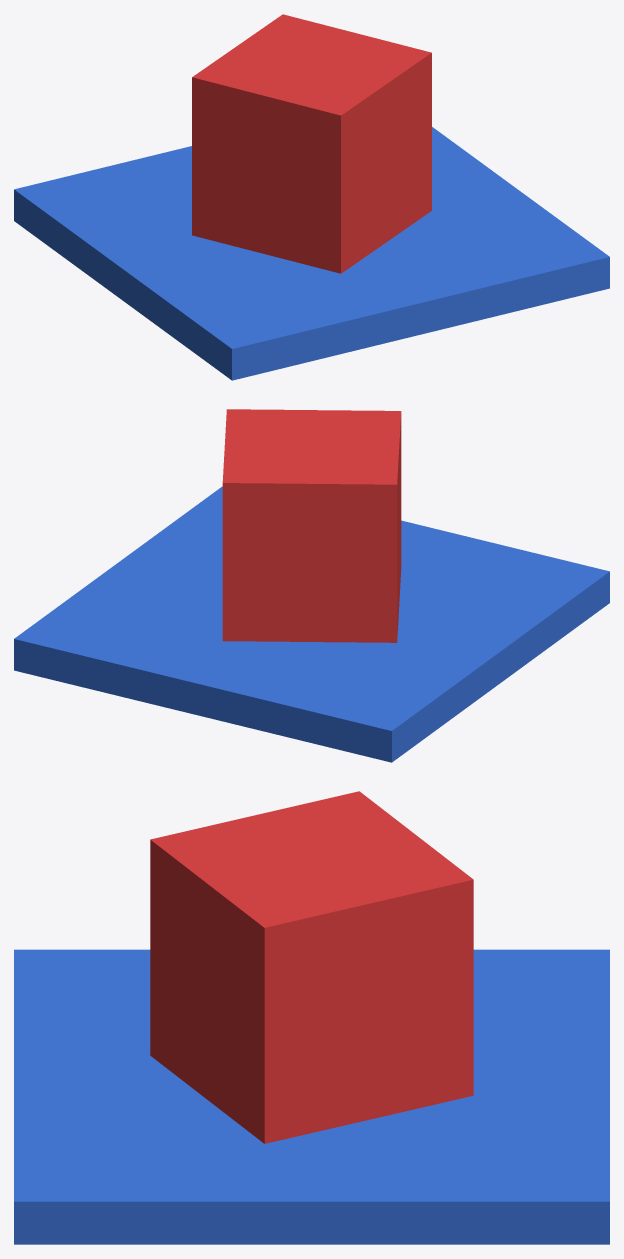
3 views of the same model, one above another, from view 1: azimuth 30°, elevation 25°; view 2: azimuth 150°, elevation 25°; view 3: azimuth 270°, elevation 25° (orthographic). The views are drawn at different scales.
Visible parts, largest first — view 1: Base, Box; view 2: Base, Box; view 3: Base, Box.
Part boxes in pixels (box(x1,y1,x2,y2)): Base: box(14, 127, 609, 380); Box: box(192, 14, 431, 273); Base: box(14, 486, 609, 762); Box: box(222, 409, 401, 642); Base: box(14, 949, 609, 1244); Box: box(150, 791, 473, 1143).
Size of the model in its own units: 2.5 by 1.2 by 2.5.
